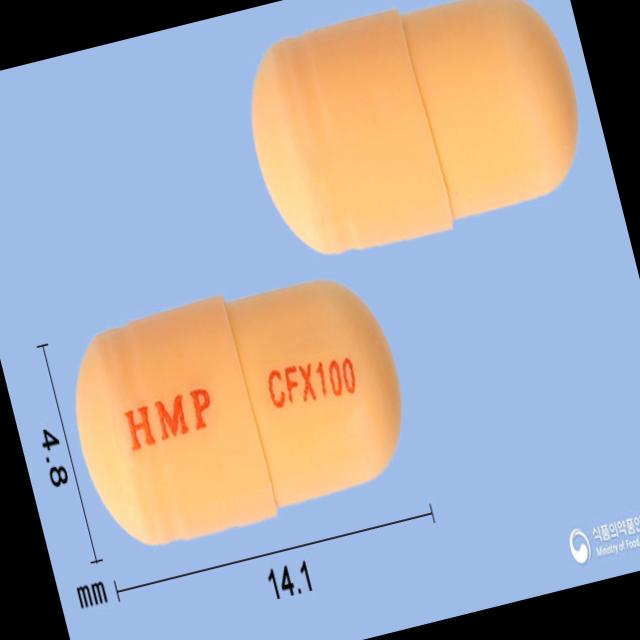Cefix Cap: (49, 252, 428, 565)
